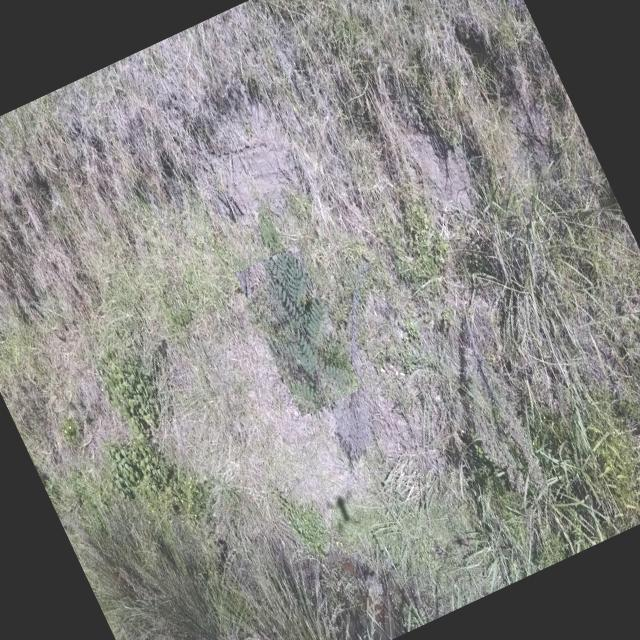Mysore-Thorn-Weed: (235, 245, 363, 417)
